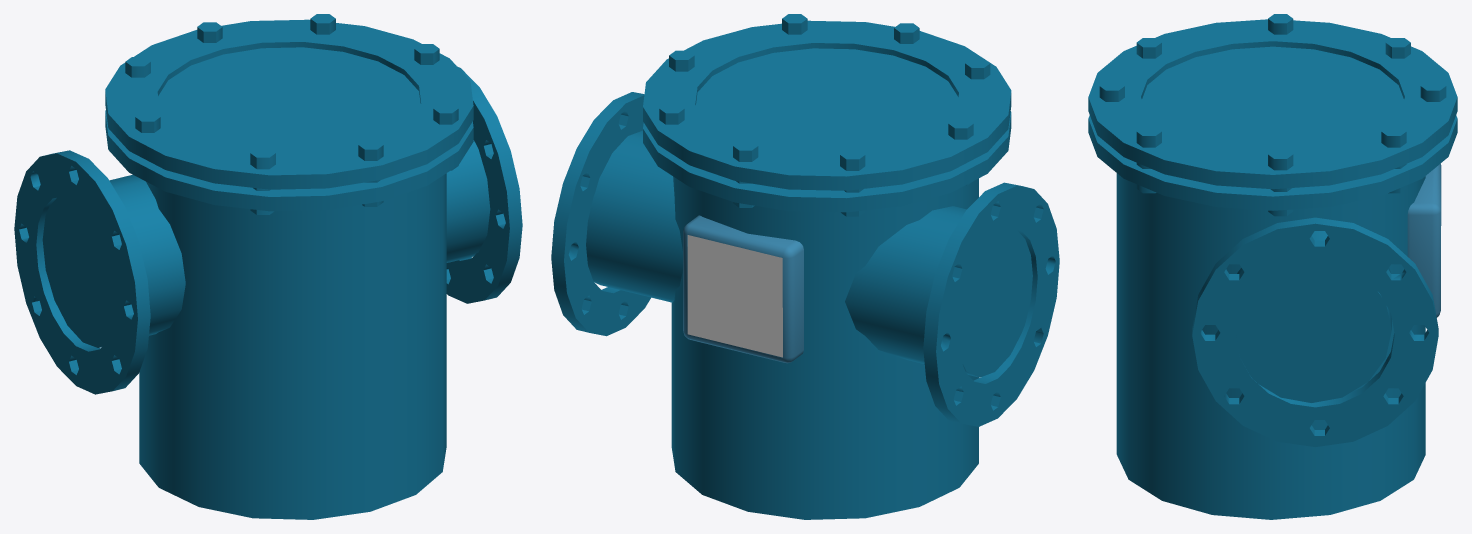
Rendered from basket_filter.obj.
3 renders of one model, left to right at view 1: azimuth 30°, elevation 25°; view 2: azimuth 150°, elevation 25°; view 3: azimuth 270°, elevation 25°, orthographic.
Parts seen in each view (by area): view 1: __, __.2, __.1, ___2; view 2: __, __.2, __.1, ___.1, ___2; view 3: __, __.1, __.2, ___.1, ___2.
Part boxes in pixels (x1,y1,x2,y2): __: (105,47,473,519); __.2: (14,66,522,394); __.1: (19,19,505,374); ___2: (125,14,458,157); __: (643,48,1011,519); __.2: (551,92,1059,426); __.1: (568,19,1055,410); ___.1: (683,215,803,363); ___2: (659,14,990,159); __: (1088,46,1457,519); __.1: (1088,19,1457,435); __.2: (1192,217,1438,446); ___.1: (1407,163,1441,317); ___2: (1100,14,1445,158).
Size of the model in its own units: 218 by 199 by 181.
